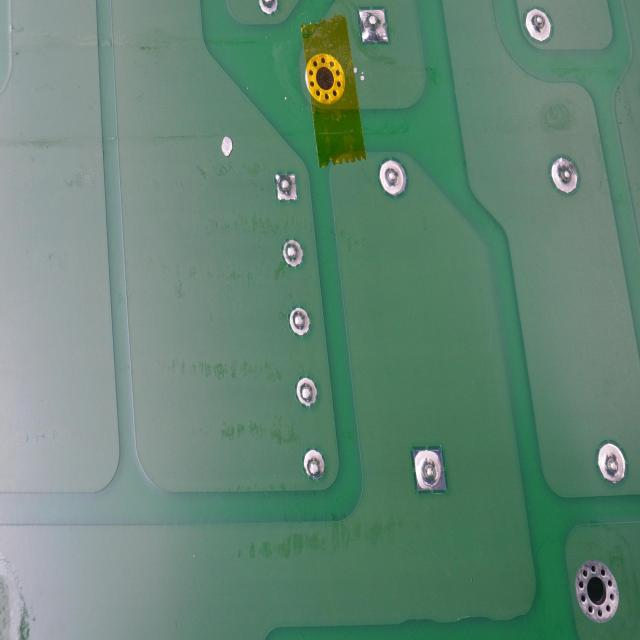spillover: (352, 58, 366, 93), (218, 134, 234, 164)
